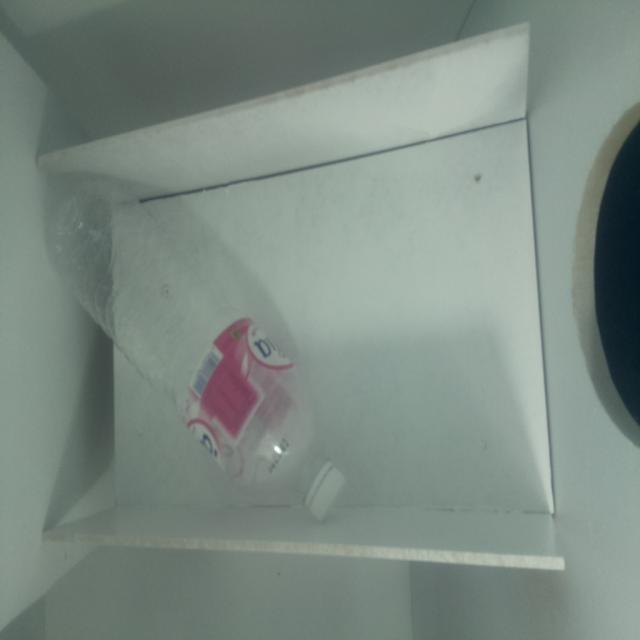Anorganik: (42, 175, 360, 522)
